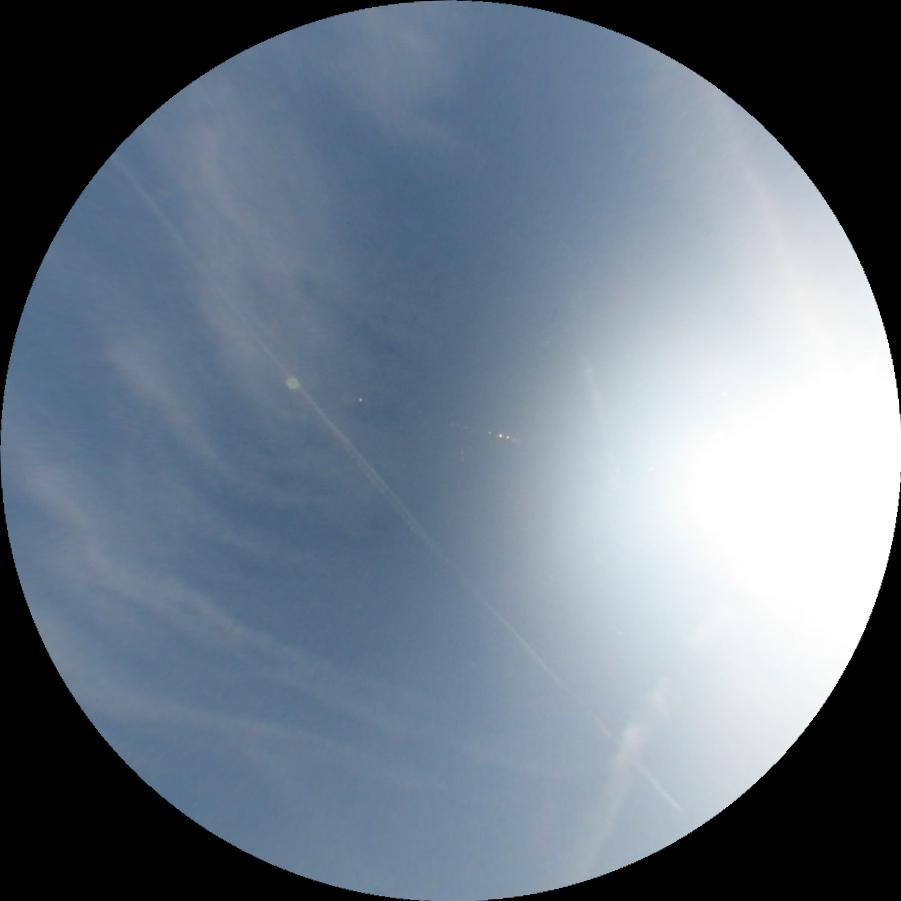contrail old: (97, 151, 682, 824)
contrail veryold: (95, 554, 611, 812), (550, 667, 686, 899)
